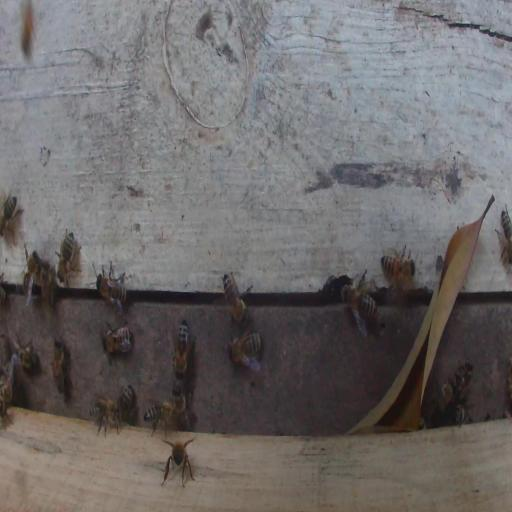nonpollenbee: (342, 271, 380, 338), (161, 437, 195, 488), (221, 271, 252, 325), (95, 260, 127, 311), (380, 243, 416, 286), (55, 228, 81, 287), (227, 331, 263, 370), (91, 396, 122, 437), (143, 401, 177, 438), (22, 245, 41, 305), (495, 204, 512, 271), (8, 337, 37, 373), (173, 320, 189, 381), (103, 325, 133, 356), (41, 263, 58, 317), (454, 358, 474, 399), (0, 361, 14, 419), (0, 192, 18, 235), (21, 1, 34, 60), (117, 384, 137, 422), (52, 337, 65, 395), (451, 403, 473, 426), (172, 383, 186, 416), (441, 379, 454, 406)
